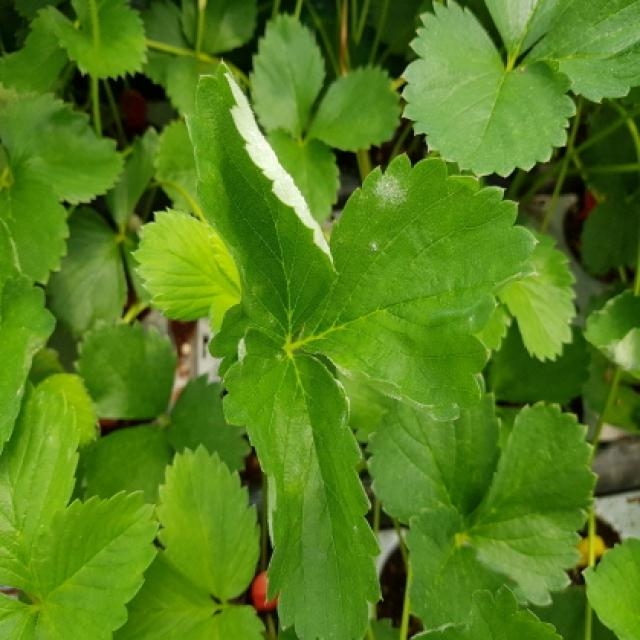Powdery Mildew Leaf: (290, 152, 540, 424), (220, 325, 384, 638), (184, 59, 339, 345), (579, 290, 638, 379)
